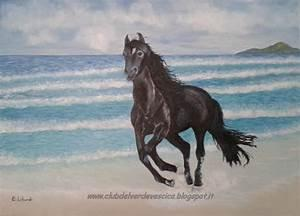horse: (122, 31, 257, 187)
